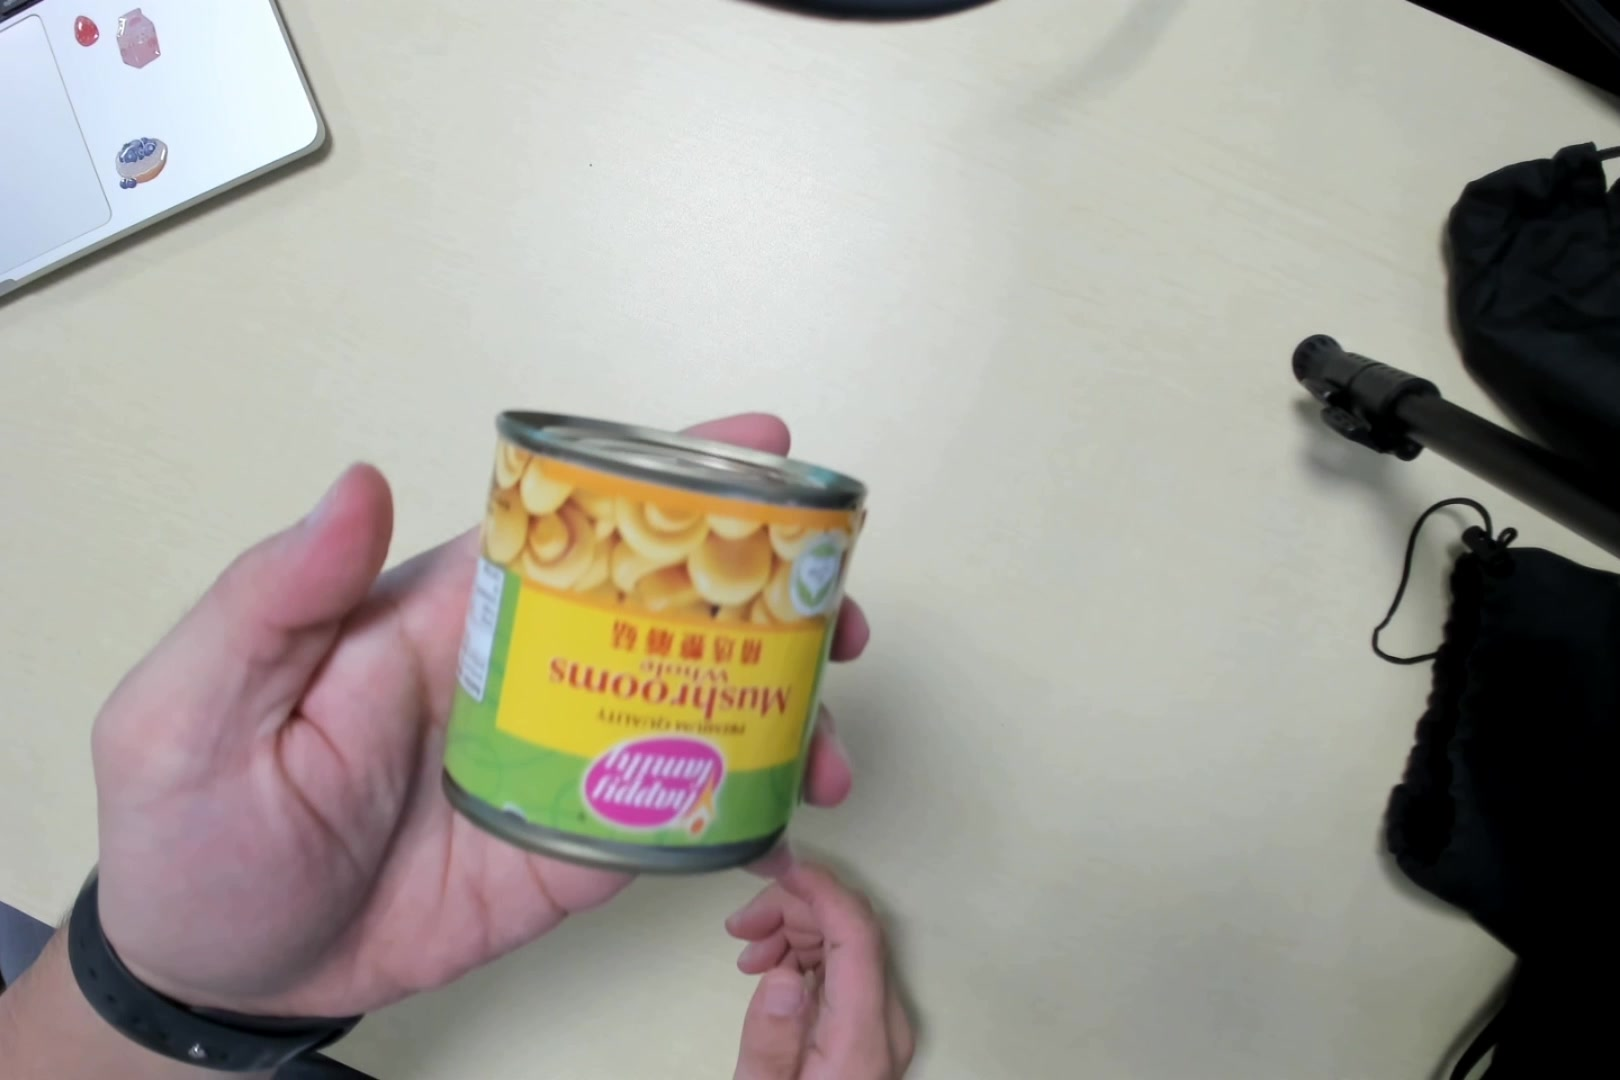CannedMashrooms_100-199g_Halal_NonHealthy: (450, 399, 846, 871)
